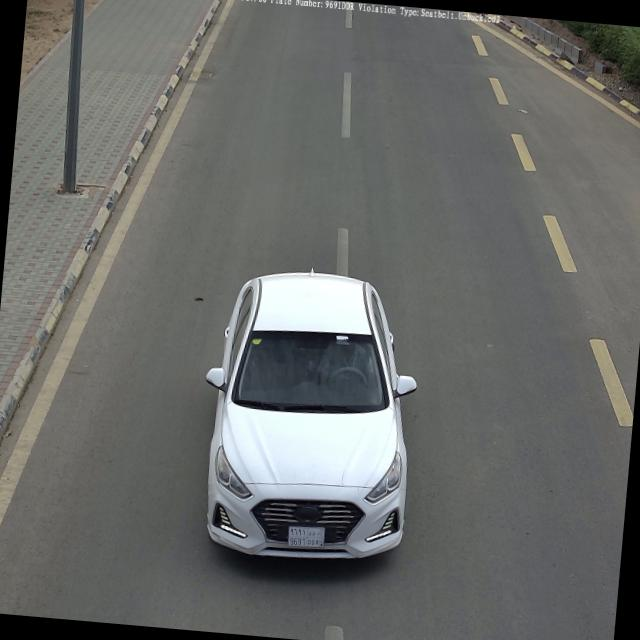person_without_seatbelt: (318, 334, 372, 391)
